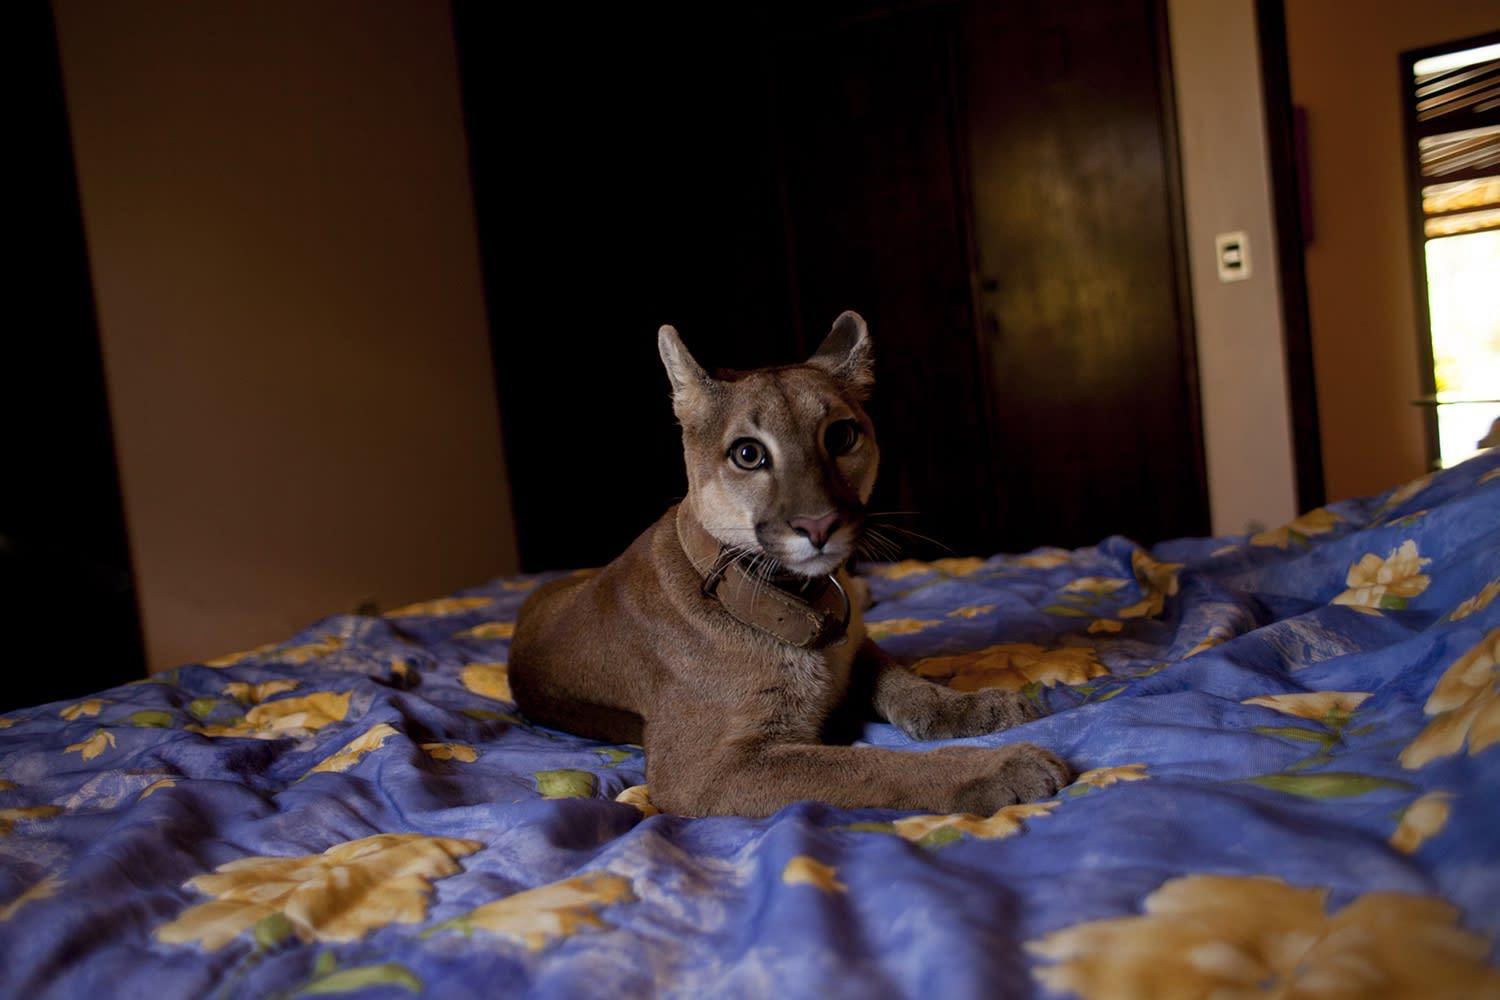OncaParda: (502, 309, 1080, 844)
